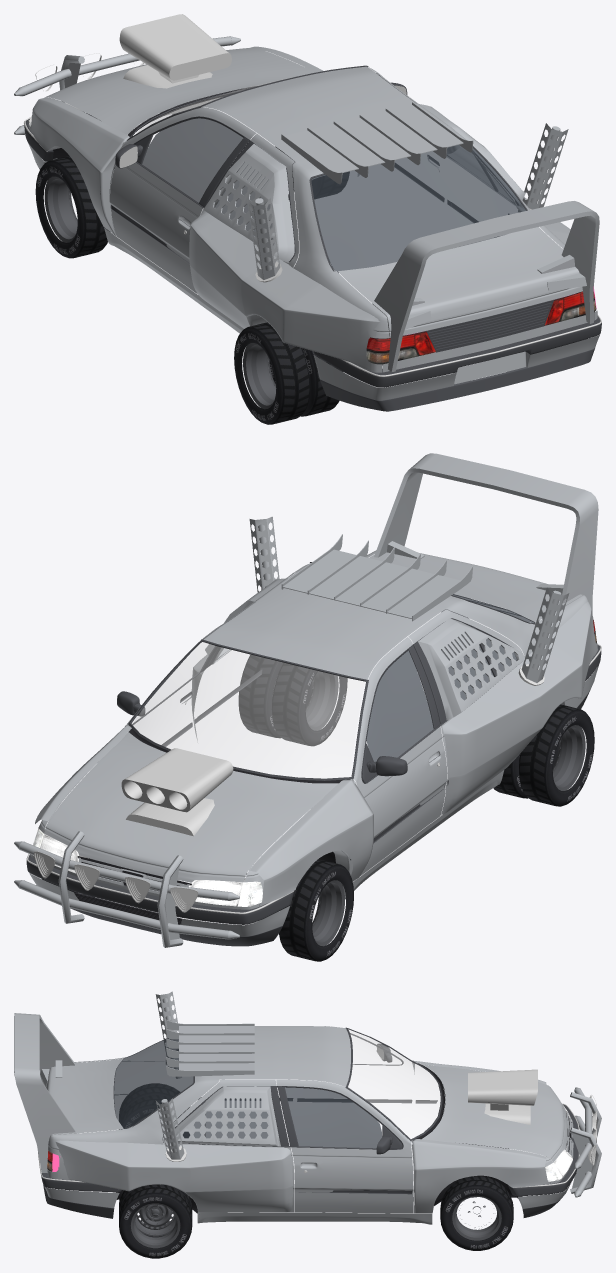
The model's file is obour405.glb.
3 renders of one model, top to bottom at view 1: azimuth 30°, elevation 25°; view 2: azimuth 150°, elevation 25°; view 3: azimuth 270°, elevation 25°, orthographic. The views are drawn at different scales.
Parts seen in each view (by area): view 1: paint, glass, plastic, tire (×4), chrome, rim (×2), tailtex, black; view 2: paint, lens, tire (×5), plastic, chrome, glass, rim (×3), head, black; view 3: paint, glass, tire (×4), plastic, lens, chrome, rim (×3), black, head.
Boxes of the visible parts, <box> form: paint: <box>14,36,599,400</box>; glass: <box>142,118,526,271</box>; plastic: <box>24,65,601,411</box>; tire (×4): <box>35,146,349,424</box>; chrome: <box>24,14,601,376</box>; rim (×2): <box>44,176,276,409</box>; tailtex: <box>366,291,596,364</box>; black: <box>53,86,257,168</box>; paint: <box>14,453,599,947</box>; lens: <box>35,642,364,910</box>; tire (×5): <box>238,655,594,961</box>; plastic: <box>26,562,601,946</box>; chrome: <box>26,644,601,914</box>; glass: <box>366,594,534,761</box>; rim (×3): <box>305,671,585,946</box>; head: <box>33,828,262,906</box>; black: <box>74,725,350,924</box>; paint: <box>14,991,601,1224</box>; glass: <box>114,1038,382,1148</box>; tire (×4): <box>119,1083,513,1258</box>; plastic: <box>41,1027,578,1218</box>; lens: <box>348,1030,595,1164</box>; chrome: <box>38,1044,596,1187</box>; rim (×3): <box>130,1195,501,1248</box>; black: <box>116,1061,576,1213</box>; head: <box>545,1102,572,1181</box>.
Bounding box in the file's own units: 1.99 × 1.36 × 4.39.
12 materials, 3 textured.
